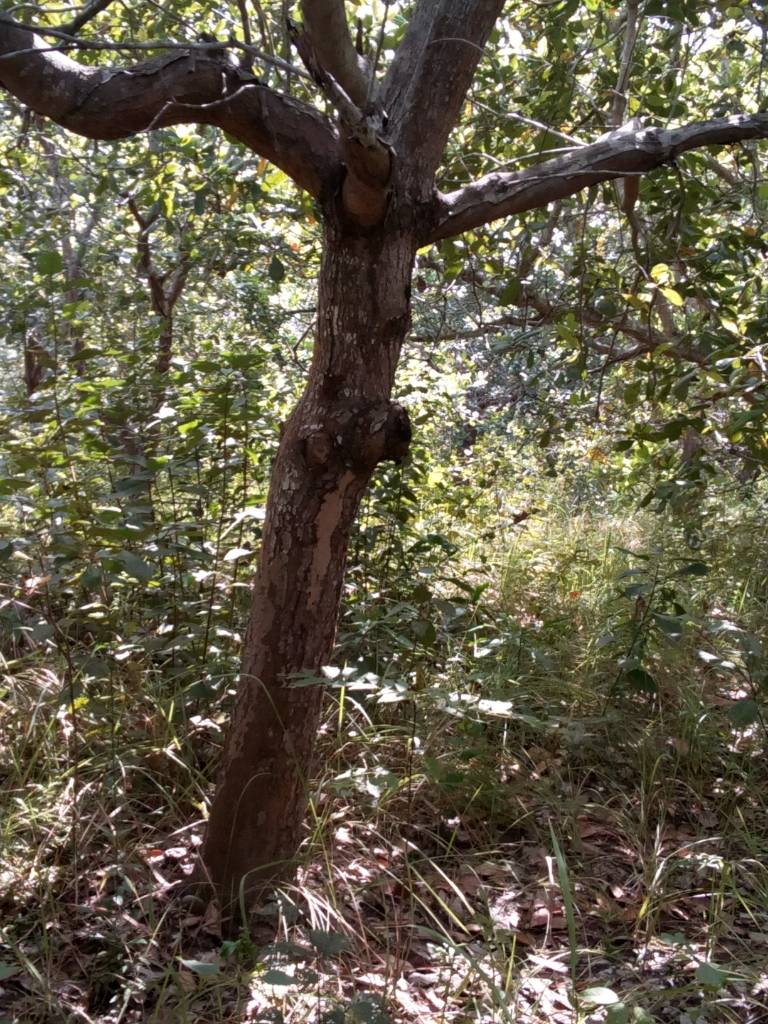Termites: (230, 447, 358, 833)
